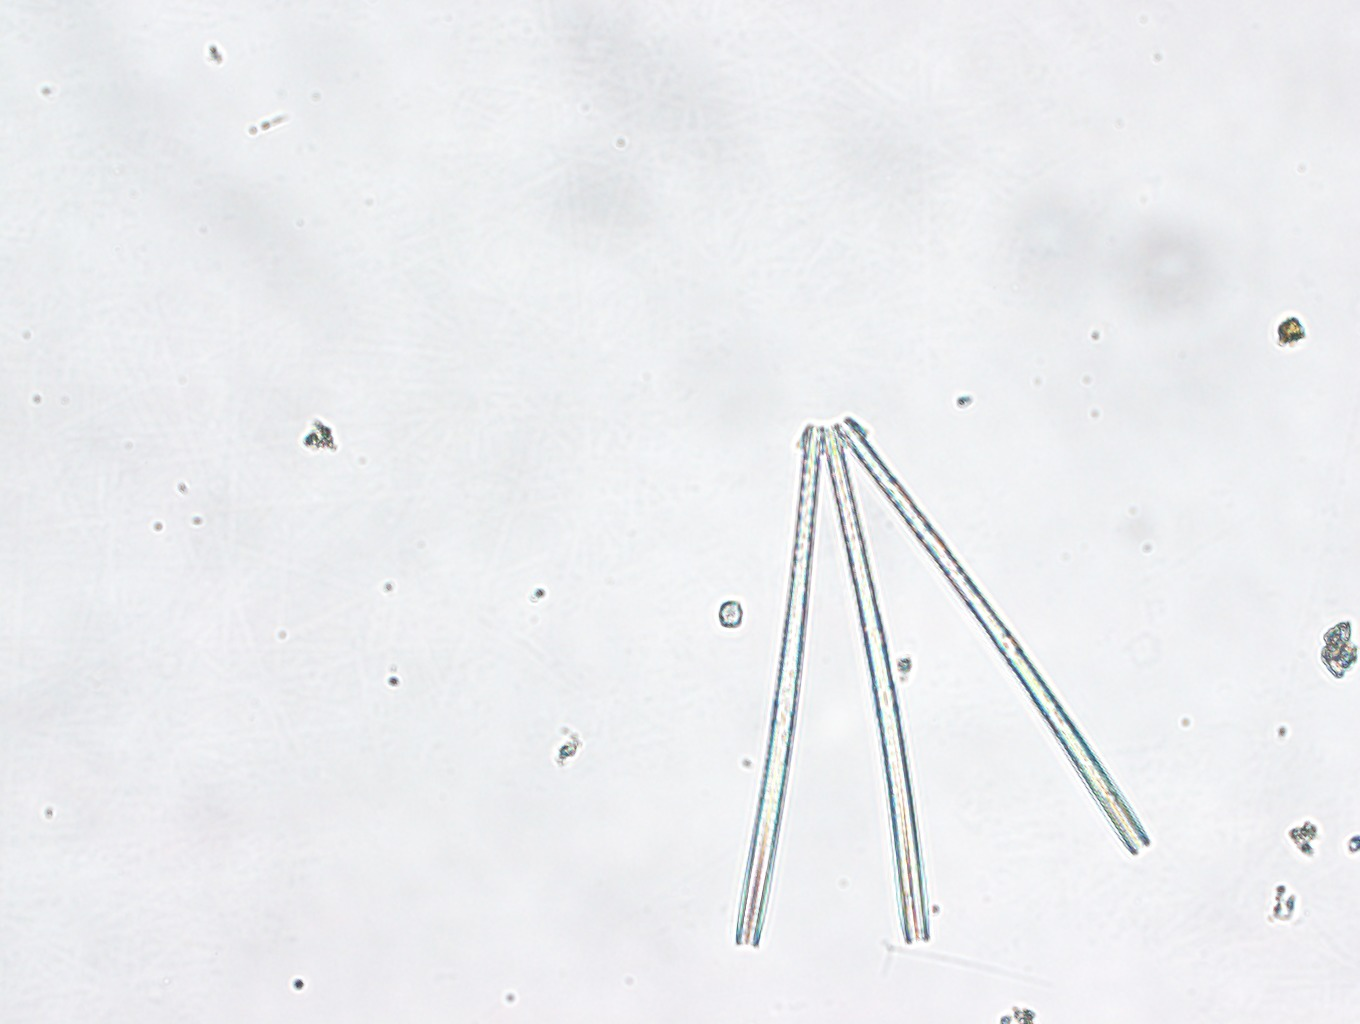thalassionema frauenfeldii: (735, 416, 1153, 948)
